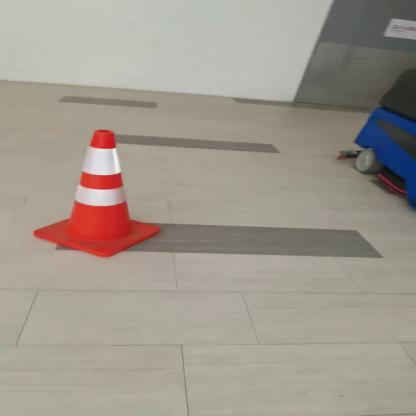cone: (22, 118, 168, 258)
